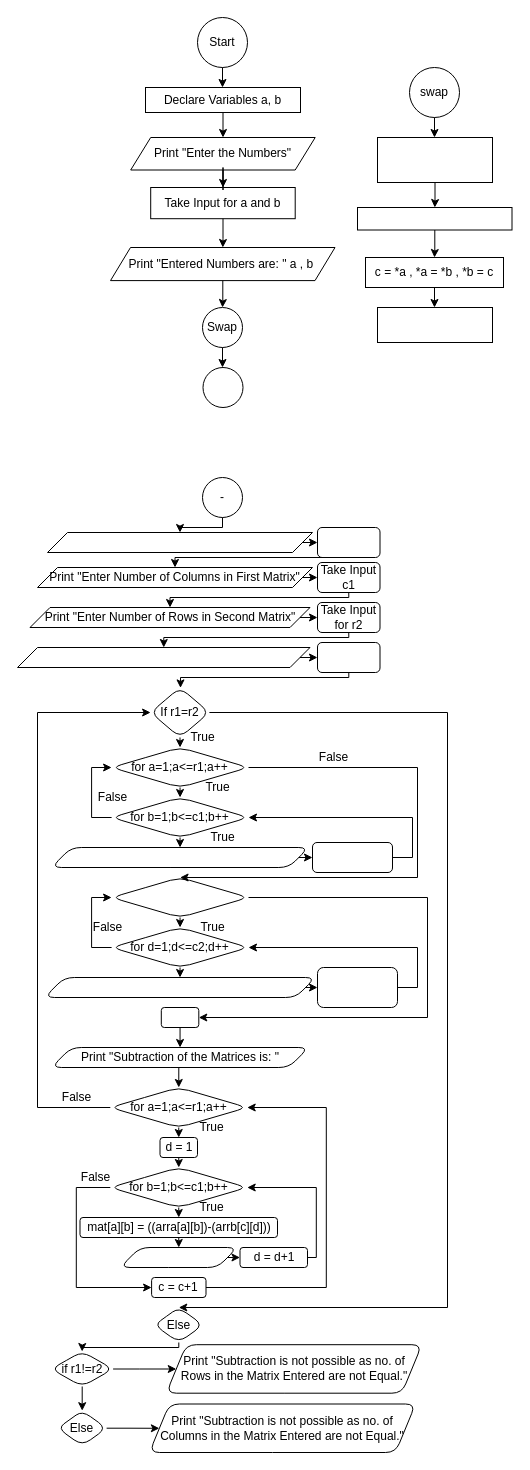
Image size: 530x1470. Some labels were removed from this diagram. The centre of each missing label's shape, as x and y in pixels:
c = 1: pixel 179 1017
Declare Variable Integer c: pixel 434 218
for c=1;c<=r2;c++: pixel 179 897
Print "Enter Number of Columns in Second Matrix": pixel 163 657
Print "Enter Number of Rows in First Matrix": pixel 179 542
Print "Enter the a,b Element in First Matrix": pixel 179 857
Print "Enter the c,d Element in Second Matrix": pixel 179 987
Print "Swapped Numbers are: " a, b: pixel 434 324
Print mat[a][b]: pixel 178 1257
Stop: pixel 222 387
Take Input c2: pixel 348 657
Take input for arra[a][b]: pixel 352 857
Take input for arrb[c][d]: pixel 357 987
Take Input for r1: pixel 348 542
Take Integers pointers a, b: pixel 434 159
